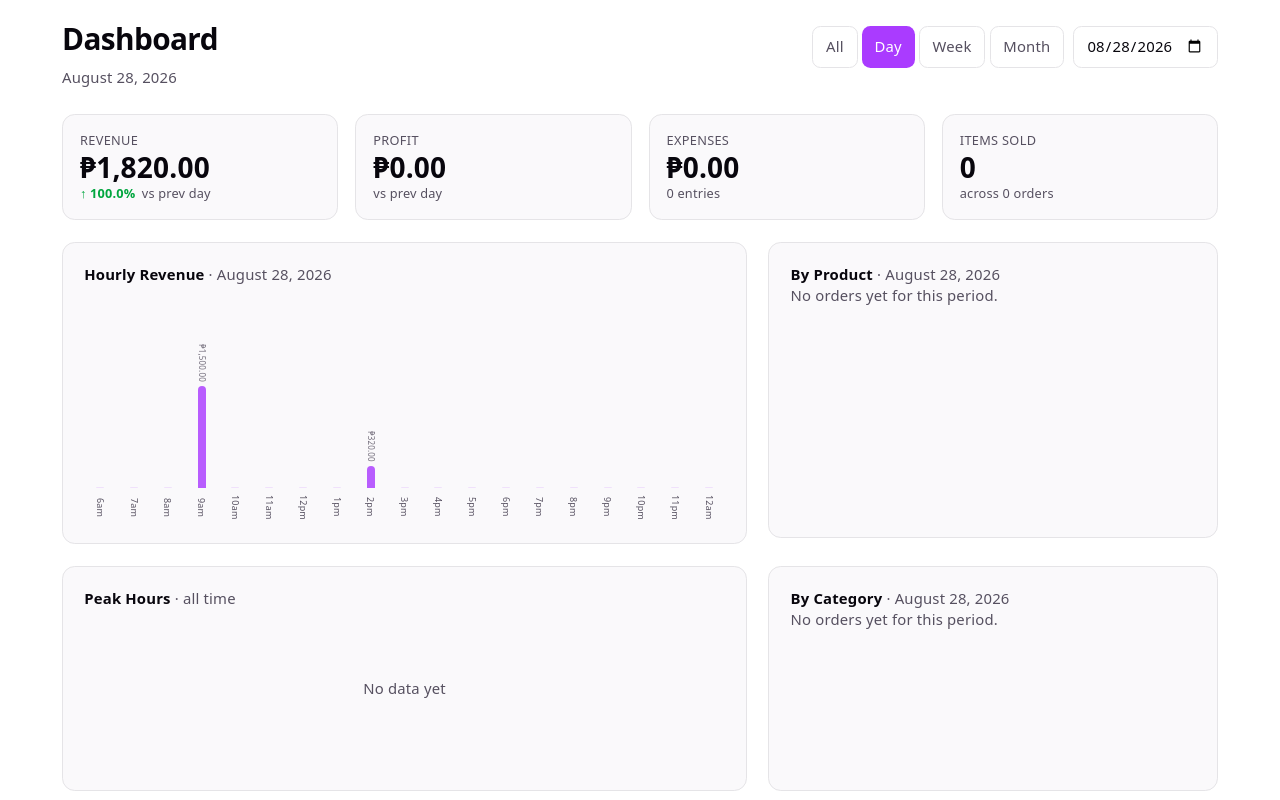
Test case: DashboardPage revenue trend › clears the readout when the same bar is tapped again
Click the button with aria-label "9am: ₱1,500.00".
click(202, 412)  # box [186, 302, 217, 522]
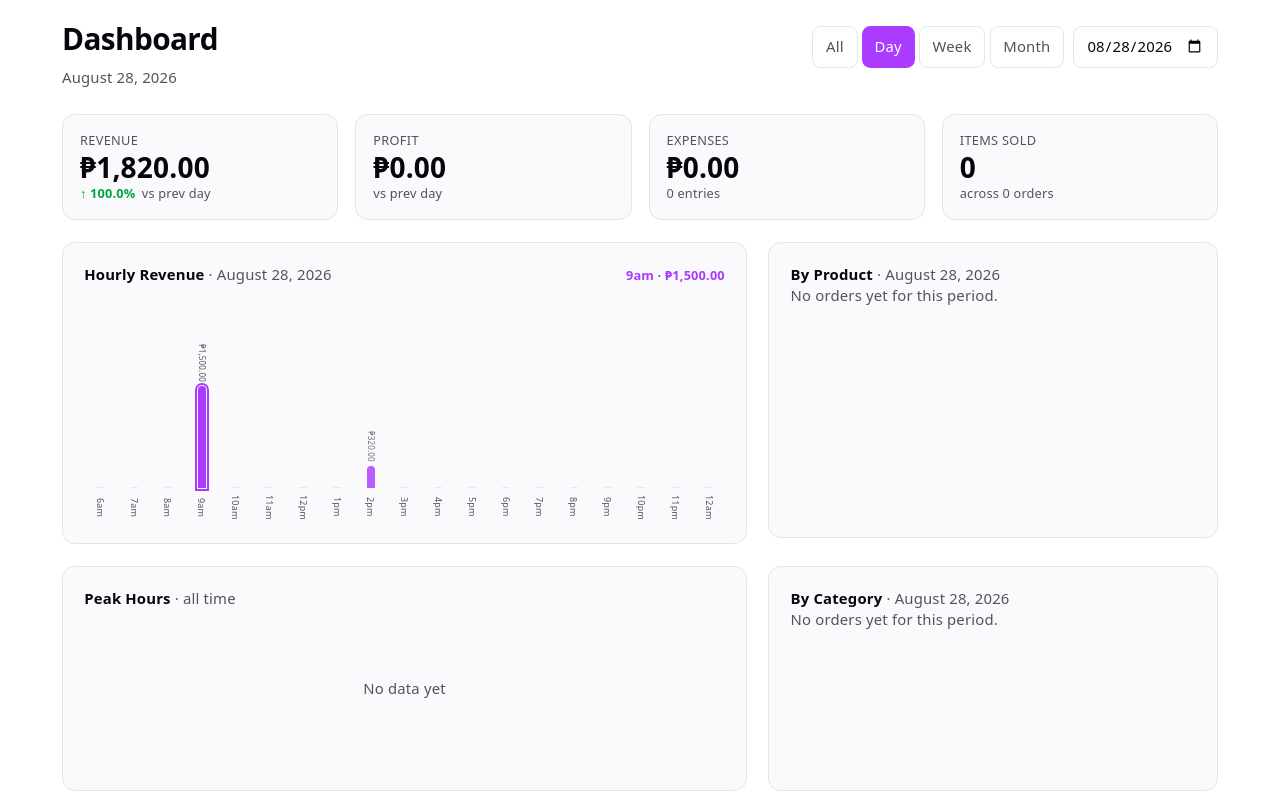
Expected: the text "9am · ₱1,500.00" is shown, [626, 267, 725, 284]
Click the button with aria-label "9am: ₱1,500.00".
click(202, 412)  # box [186, 302, 217, 522]
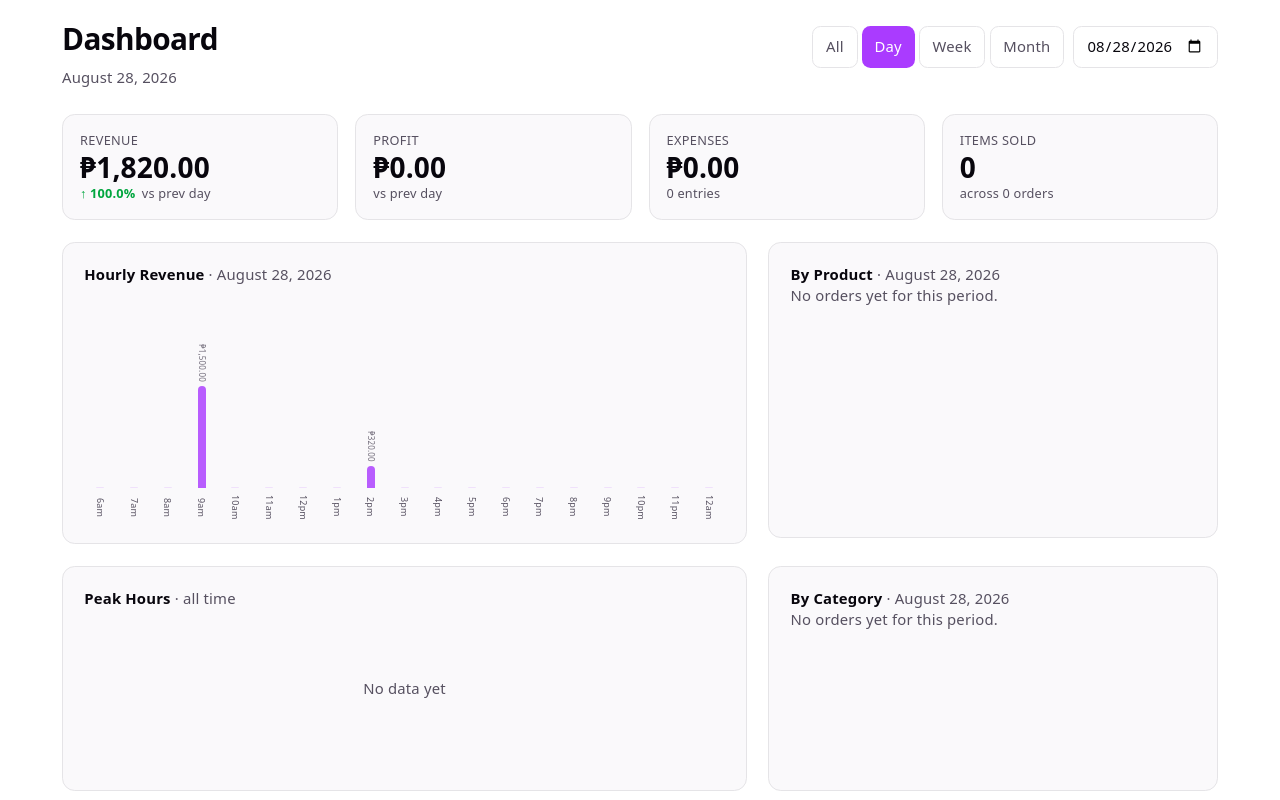
Expected: the text "9am · ₱1,500.00" is gone
